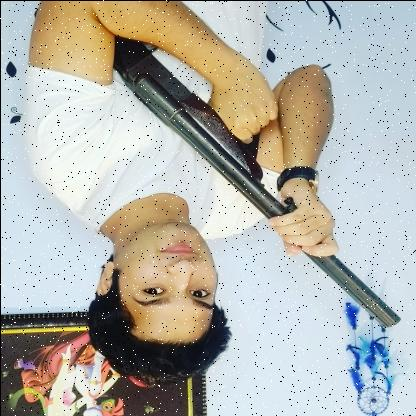rifle: (62, 0, 402, 334)
